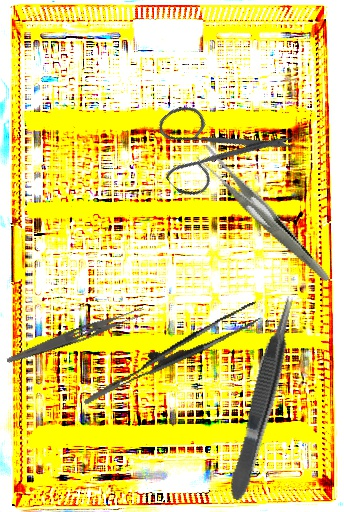Dressing Forceps: (192, 121, 331, 309), (5, 303, 147, 370)
Iris Scissors: (134, 61, 300, 227)
Tissue Forceps: (71, 301, 270, 405), (221, 293, 305, 503)
